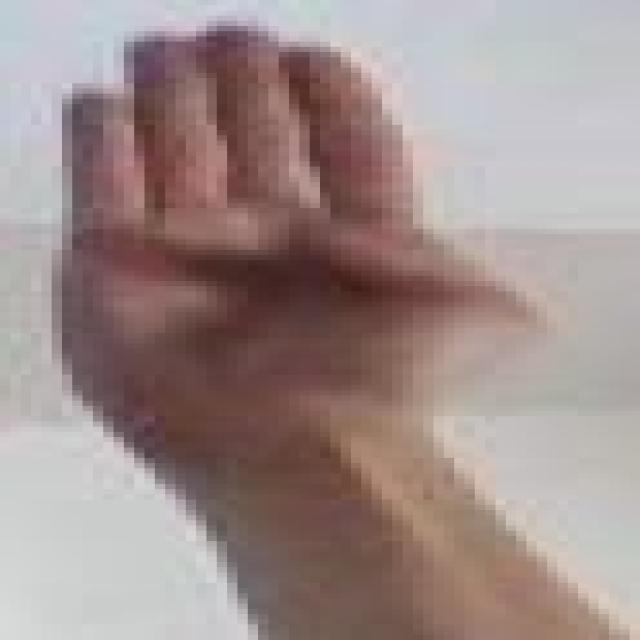B: (25, 14, 587, 456)
